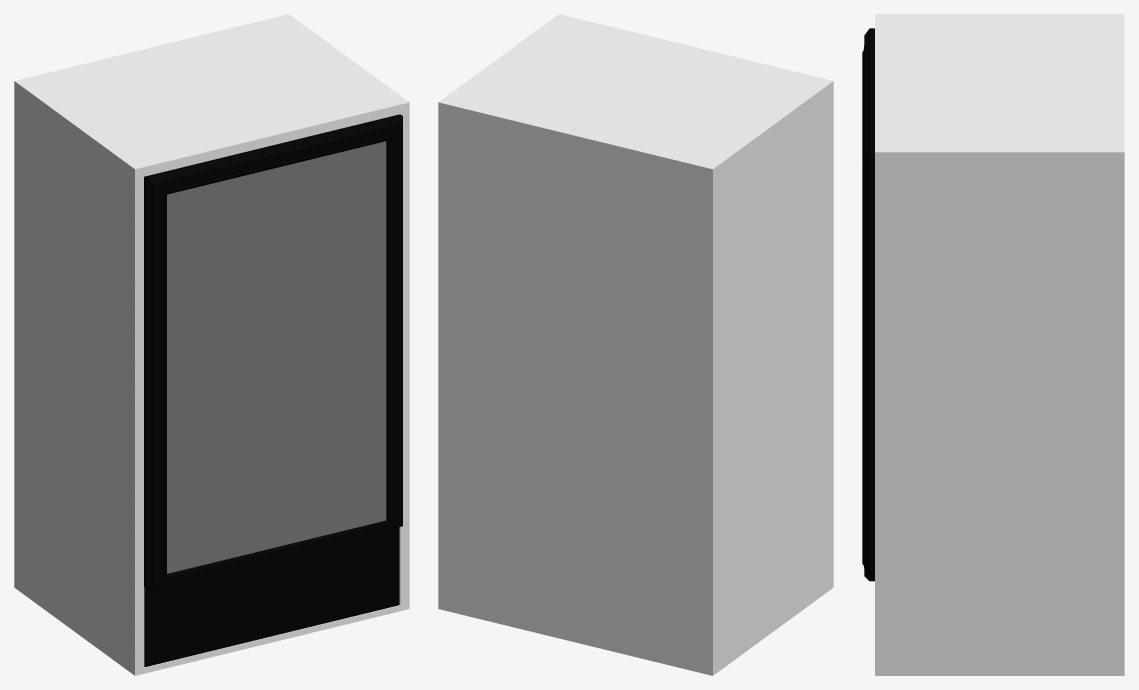
Rendered from Fridge.fbx.
The picture shows the model from 3 angles, left to right: view 1: azimuth 30°, elevation 25°; view 2: azimuth 150°, elevation 25°; view 3: azimuth 270°, elevation 25°; orthographic projection. The views are drawn at different scales.
Parts seen in each view (by area): view 1: Fridge; view 2: Fridge; view 3: Fridge.
Boxes of the visible parts, x1,y1,x2,y2 form: Fridge: (14, 14, 409, 675); Fridge: (438, 14, 833, 675); Fridge: (862, 14, 1124, 675).
Bounding box in the file's own units: 504 × 889 × 403.
2 materials, 1 textured.
